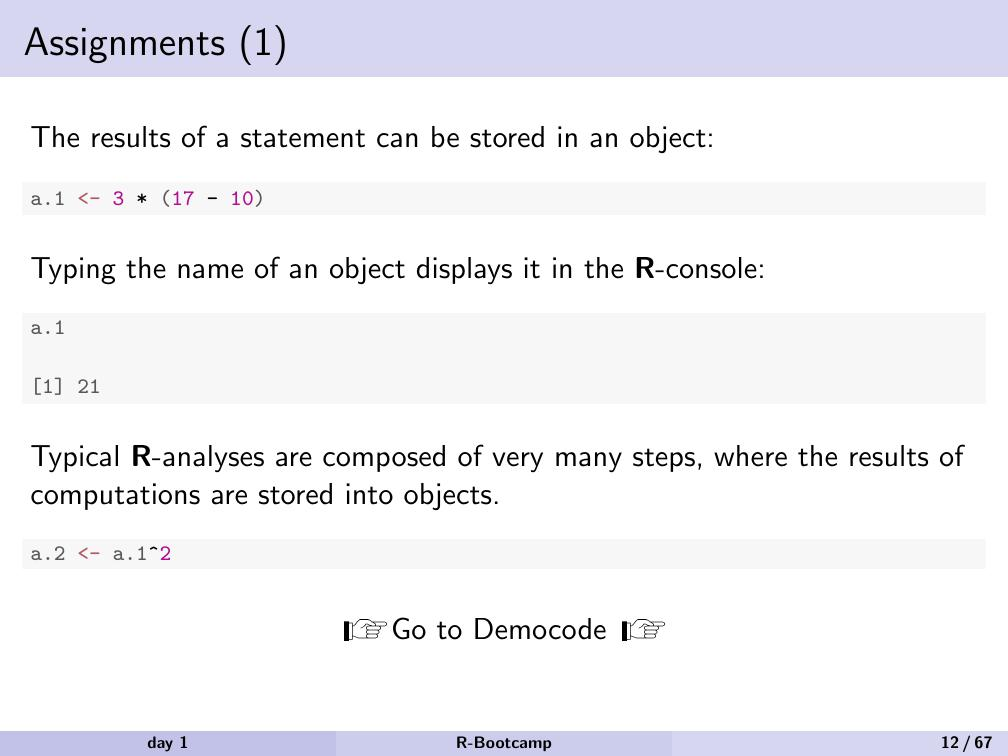Title: (19, 10, 294, 74)
